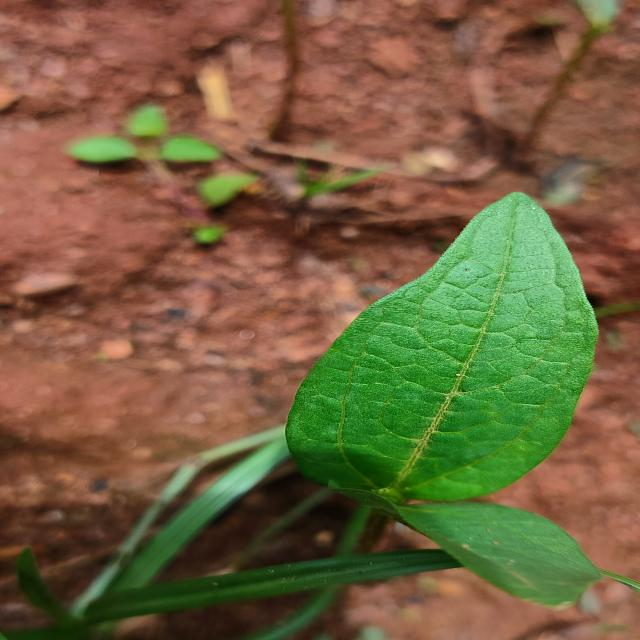Black gram_healthy: (295, 192, 593, 502)
